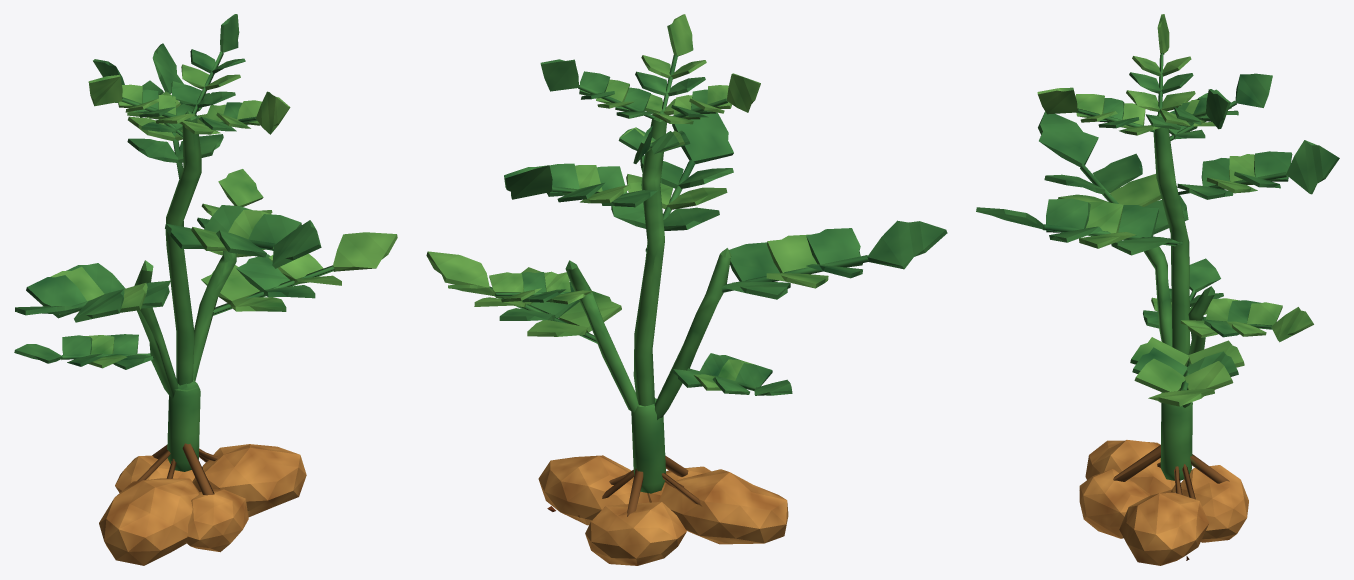
The model's file is potato_stage_1.glb.
3 views of the same model, side by side, from view 1: azimuth 30°, elevation 25°; view 2: azimuth 150°, elevation 25°; view 3: azimuth 270°, elevation 25° (orthographic). The views are drawn at different scales.
Visible parts, largest first — view 1: potato_stage_1; view 2: potato_stage_1; view 3: potato_stage_1.
Part boxes in pixels (<box>): potato_stage_1: <box>14,14,397,565</box>; potato_stage_1: <box>426,14,947,565</box>; potato_stage_1: <box>976,14,1339,565</box>.
Size of the model in its own units: 0.7693 by 0.7955 by 0.553.
Materials: 1 (1 with a texture image).
